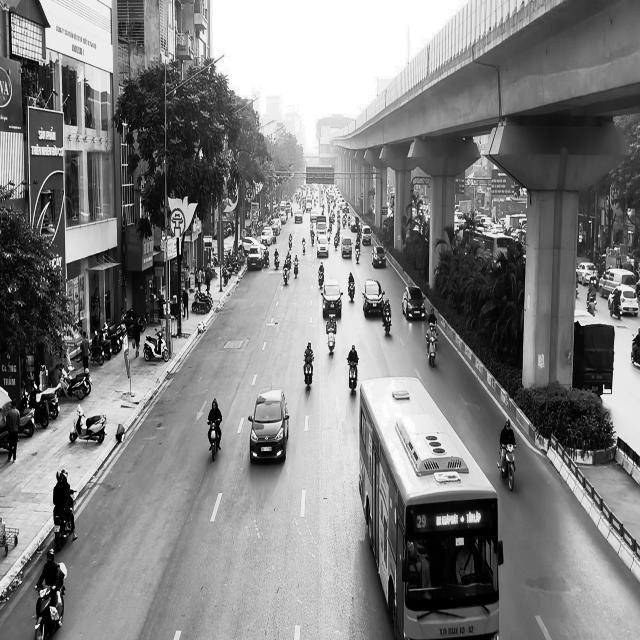bus: (358, 375, 504, 639)
car: (248, 386, 289, 463), (362, 278, 384, 317), (320, 279, 342, 317), (402, 286, 425, 320), (371, 245, 386, 268), (341, 236, 352, 259)
motorbike: (53, 490, 77, 550), (70, 404, 106, 444), (496, 442, 516, 490), (143, 327, 169, 362), (207, 418, 221, 462), (347, 357, 358, 393), (303, 355, 314, 390), (382, 300, 391, 335), (347, 280, 355, 301)
